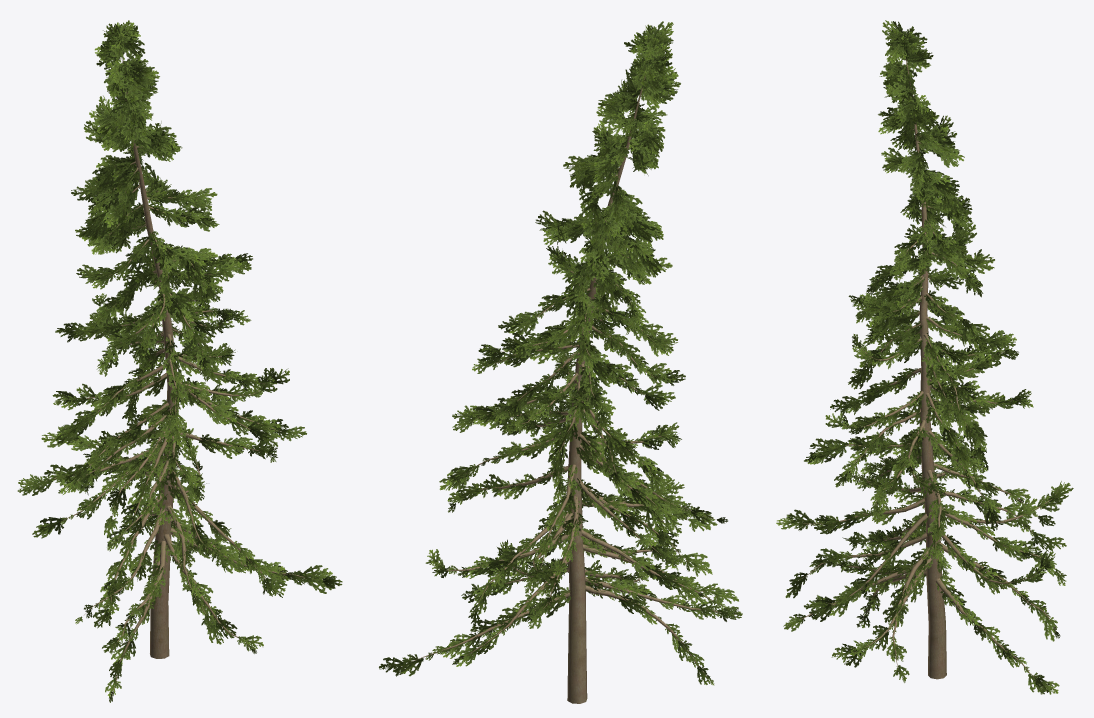
The model's file is pine-small.gltf.
3 renders of one model, left to right at view 1: azimuth 30°, elevation 25°; view 2: azimuth 150°, elevation 25°; view 3: azimuth 270°, elevation 25°, orthographic. The views are drawn at different scales.
Parts seen in each view (by area): view 1: Tree; view 2: Tree; view 3: Tree.
Part boxes in pixels (left/top/right/bottom): Tree: left=17, top=20, right=342, bottom=702; Tree: left=379, top=21, right=742, bottom=703; Tree: left=776, top=20, right=1073, bottom=694.
Bounding box in the file's own units: 16.99 × 40.37 × 17.74.
Materials: 2 (2 with a texture image).
